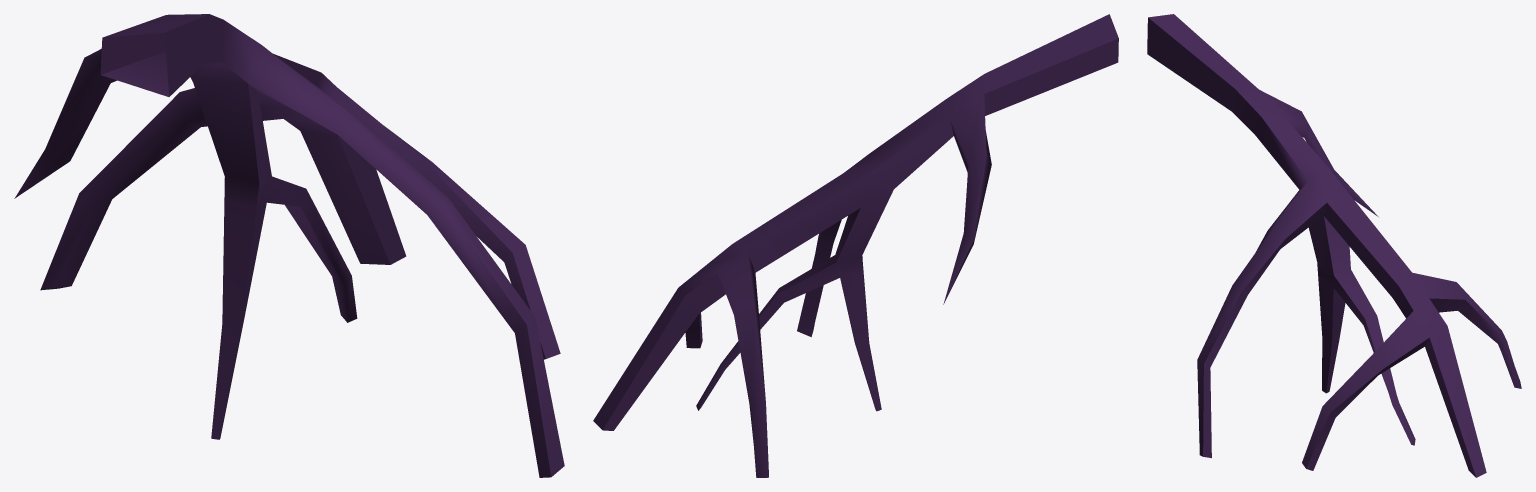
The model's file is mangroveRoot3.fbx.
3 renders of one model, left to right at view 1: azimuth 30°, elevation 25°; view 2: azimuth 150°, elevation 25°; view 3: azimuth 270°, elevation 25°, orthographic. The views are drawn at different scales.
Visible parts, largest first — view 1: polySurface5; view 2: polySurface5; view 3: polySurface5.
Boxes of the visible parts, <box> form: polySurface5: <box>14,14,564,477</box>; polySurface5: <box>593,14,1118,477</box>; polySurface5: <box>1147,14,1521,477</box>.
Size of the model in its own units: 7.75 by 7.54 by 7.89.
